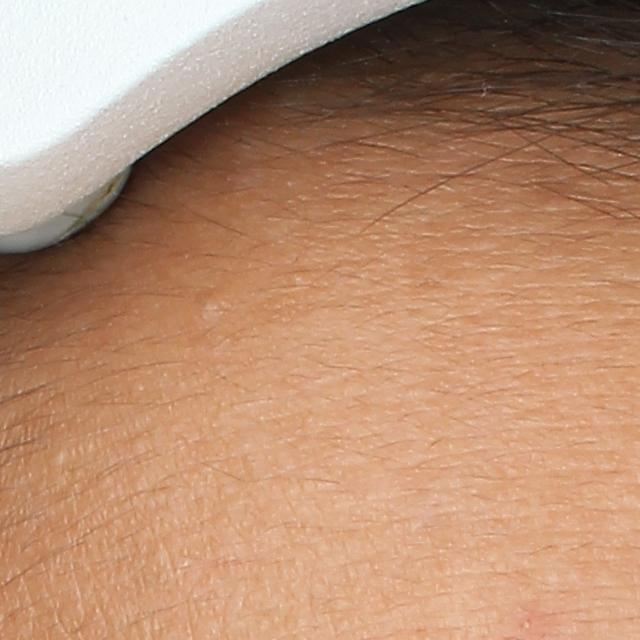comedo: (49, 447, 68, 468)
